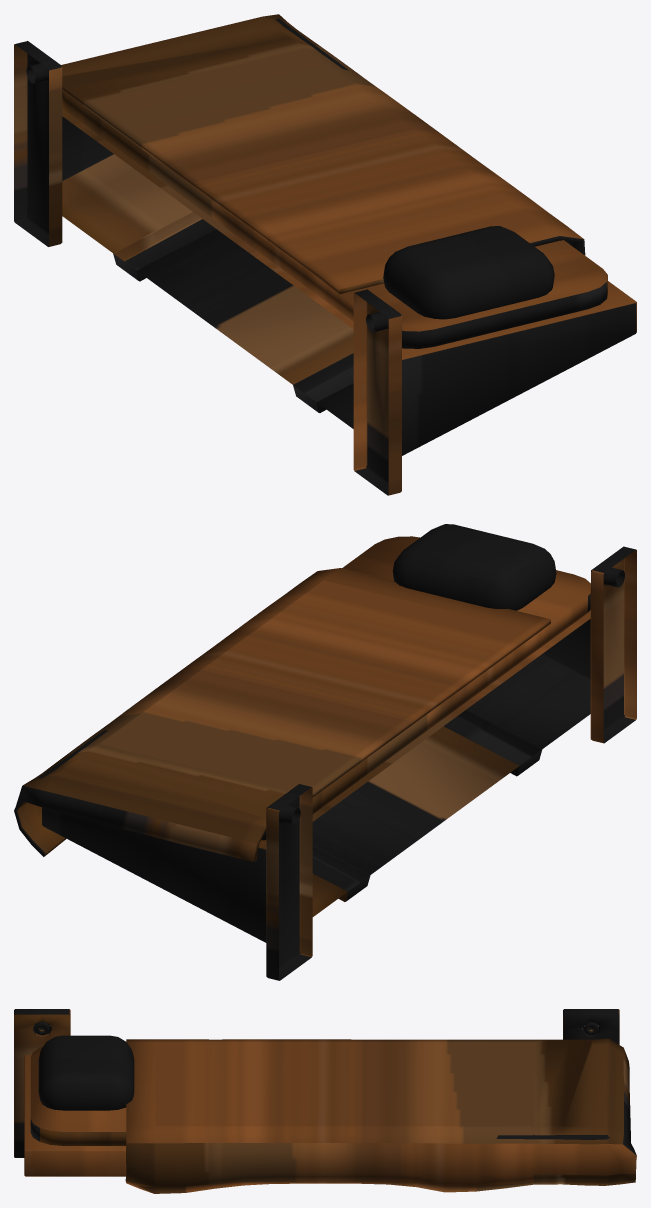
The model's file is Bed1.fbx.
3 renders of one model, top to bottom at view 1: azimuth 30°, elevation 25°; view 2: azimuth 150°, elevation 25°; view 3: azimuth 270°, elevation 25°, orthographic. The views are drawn at different scales.
Visible parts, largest first — view 1: Bed1; view 2: Bed1; view 3: Bed1.
Boxes of the visible parts, bbox=[...] form: Bed1: bbox=[14, 14, 636, 495]; Bed1: bbox=[14, 524, 636, 980]; Bed1: bbox=[14, 1009, 636, 1193].
Size of the model in its own units: 1.68 by 1.1 by 4.18.
